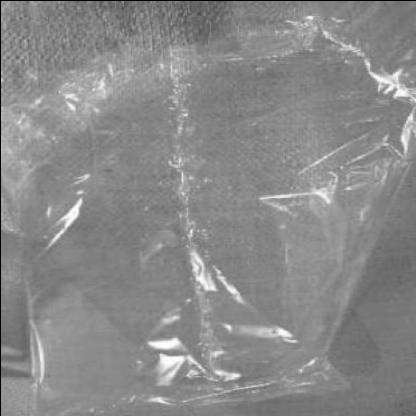objects: (0, 54, 399, 400)
